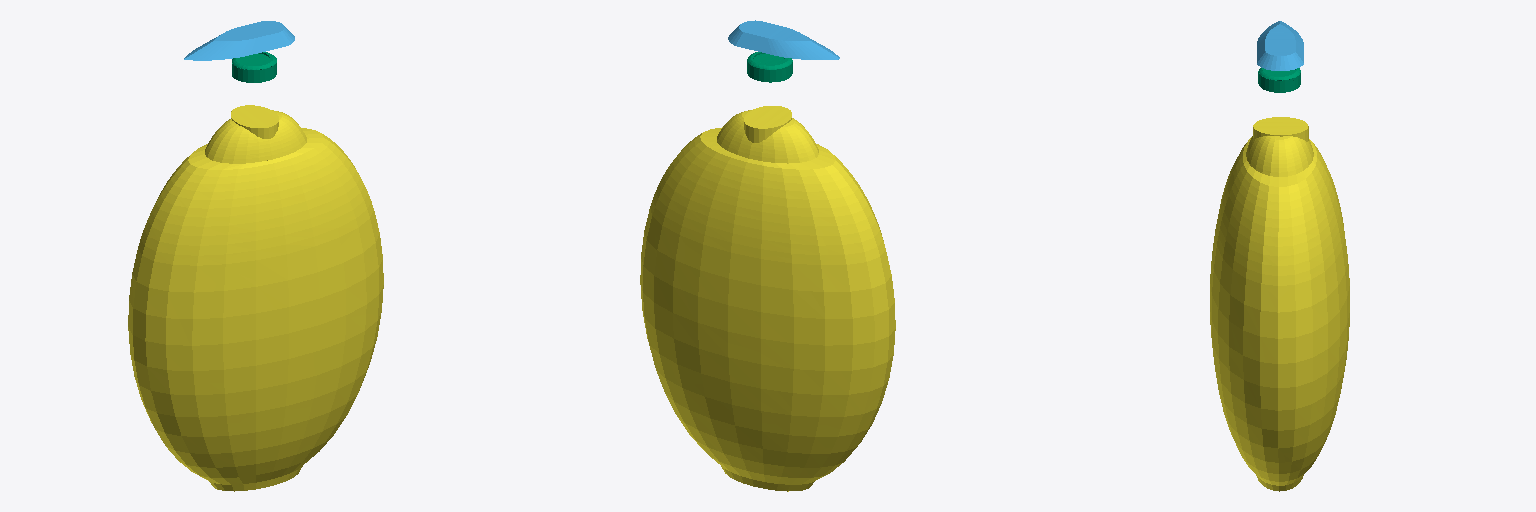
robot.urdf — partnet_eb03ba3f-2b3f-44c3-894d-2ff54920ba8b:
<?xml version="1.0" ?>
<robot name="partnet_eb03ba3f-2b3f-44c3-894d-2ff54920ba8b">
	<link name="base"/>
	<link name="link_0">
		<visual name="pressing_lid-1">
			<origin xyz="0.004231701631850748 0 -0.003250010010664317"/>
			<geometry>
				<mesh filename="textured_objs/original-4.obj"/>
			</geometry>
		</visual>
		<visual name="pressing_lid-1">
			<origin xyz="0.004231701631850748 0 -0.003250010010664317"/>
			<geometry>
				<mesh filename="textured_objs/original-3.obj"/>
			</geometry>
		</visual>
		<visual name="pressing_lid-1">
			<origin xyz="0.004231701631850748 0 -0.003250010010664317"/>
			<geometry>
				<mesh filename="textured_objs/original-1.obj"/>
			</geometry>
		</visual>
		<collision>
			<origin xyz="0.004231701631850748 0 -0.003250010010664317"/>
			<geometry>
				<mesh filename="textured_objs/original-4.obj"/>
			</geometry>
		</collision>
		<collision>
			<origin xyz="0.004231701631850748 0 -0.003250010010664317"/>
			<geometry>
				<mesh filename="textured_objs/original-3.obj"/>
			</geometry>
		</collision>
		<collision>
			<origin xyz="0.004231701631850748 0 -0.003250010010664317"/>
			<geometry>
				<mesh filename="textured_objs/original-1.obj"/>
			</geometry>
		</collision>
	</link>
	<joint name="joint_0" type="continuous">
		<origin xyz="0.0 0 0.0"/>
		<axis xyz="0 1 0"/>
		<child link="link_0"/>
		<parent link="link_0_helper"/>
	</joint>
	<link name="link_1">
		<visual name="head-3">
			<origin xyz="0.0012767166332510634 -1.2184313426589853e-05 0.003067265562766778"/>
			<geometry>
				<mesh filename="textured_objs/original-2.obj"/>
			</geometry>
		</visual>
		<visual name="head-3">
			<origin xyz="0.0012767166332510634 -1.2184313426589853e-05 0.003067265562766778"/>
			<geometry>
				<mesh filename="textured_objs/original-5.obj"/>
			</geometry>
		</visual>
		<visual name="head-3">
			<origin xyz="0.0012767166332510634 -1.2184313426589853e-05 0.003067265562766778"/>
			<geometry>
				<mesh filename="textured_objs/original-6.obj"/>
			</geometry>
		</visual>
		<collision>
			<origin xyz="0.0012767166332510634 -1.2184313426589853e-05 0.003067265562766778"/>
			<geometry>
				<mesh filename="textured_objs/original-2.obj"/>
			</geometry>
		</collision>
		<collision>
			<origin xyz="0.0012767166332510634 -1.2184313426589853e-05 0.003067265562766778"/>
			<geometry>
				<mesh filename="textured_objs/original-5.obj"/>
			</geometry>
		</collision>
		<collision>
			<origin xyz="0.0012767166332510634 -1.2184313426589853e-05 0.003067265562766778"/>
			<geometry>
				<mesh filename="textured_objs/original-6.obj"/>
			</geometry>
		</collision>
	</link>
	<joint name="joint_1" type="continuous">
		<origin xyz="0.0 0.0 0.0"/>
		<axis xyz="0.006125362796339866 0.9999802277683453 0.0014226745875050735"/>
		<child link="link_1"/>
		<parent link="link_1_helper"/>
	</joint>
	<link name="link_2">
		<visual name="base_body-4">
			<origin xyz="0 0 0"/>
			<geometry>
				<mesh filename="textured_objs/original-8.obj"/>
			</geometry>
		</visual>
		<visual name="base_body-4">
			<origin xyz="0 0 0"/>
			<geometry>
				<mesh filename="textured_objs/original-9.obj"/>
			</geometry>
		</visual>
		<visual name="base_body-4">
			<origin xyz="0 0 0"/>
			<geometry>
				<mesh filename="textured_objs/original-11.obj"/>
			</geometry>
		</visual>
		<visual name="base_body-4">
			<origin xyz="0 0 0"/>
			<geometry>
				<mesh filename="textured_objs/original-12.obj"/>
			</geometry>
		</visual>
		<visual name="base_body-4">
			<origin xyz="0 0 0"/>
			<geometry>
				<mesh filename="textured_objs/original-10.obj"/>
			</geometry>
		</visual>
		<collision>
			<origin xyz="0 0 0"/>
			<geometry>
				<mesh filename="textured_objs/original-8.obj"/>
			</geometry>
		</collision>
		<collision>
			<origin xyz="0 0 0"/>
			<geometry>
				<mesh filename="textured_objs/original-9.obj"/>
			</geometry>
		</collision>
		<collision>
			<origin xyz="0 0 0"/>
			<geometry>
				<mesh filename="textured_objs/original-11.obj"/>
			</geometry>
		</collision>
		<collision>
			<origin xyz="0 0 0"/>
			<geometry>
				<mesh filename="textured_objs/original-12.obj"/>
			</geometry>
		</collision>
		<collision>
			<origin xyz="0 0 0"/>
			<geometry>
				<mesh filename="textured_objs/original-10.obj"/>
			</geometry>
		</collision>
	</link>
	<joint name="joint_2" type="fixed">
		<origin rpy="1.570796326794897 0 -1.570796326794897" xyz="0 0 0"/>
		<child link="link_2"/>
		<parent link="base"/>
	</joint>
	<link name="link_0_helper"/>
	<joint name="joint_3" type="prismatic">
		<origin xyz="-0.0029549849985996846 -1.2184313426589853e-05 0.006317275573431095"/>
		<axis xyz="0 -1 0"/>
		<child link="link_0_helper"/>
		<parent link="link_1"/>
		<limit lower="0" upper="0.06"/>
	</joint>
	<link name="link_1_helper"/>
	<joint name="joint_4" type="prismatic">
		<origin xyz="-0.0012767166332510634 1.2184313426589853e-05 -0.003067265562766778"/>
		<axis xyz="0.006125362796339866 0.9999802277683453 0.0014226745875050735"/>
		<child link="link_1_helper"/>
		<parent link="link_2"/>
		<limit lower="0" upper="0.01200000000000001"/>
	</joint>
</robot>

--- Facts derived from the render (not from the file) ---
The picture shows the robot from 3 angles, left to right: view 1: azimuth 30°, elevation 25°; view 2: azimuth 150°, elevation 25°; view 3: azimuth 270°, elevation 25°; orthographic projection.
Model partnet_eb03ba3f-2b3f-44c3-894d-2ff54920ba8b with 6 links and 5 joints (2 continuous, 2 prismatic, 1 fixed), rooted at base, posed all joints at 0.
Visible links, largest first — view 1: link_2, link_0, link_1; view 2: link_2, link_0, link_1; view 3: link_2, link_0, link_1.
Link boxes in pixels (left/top/right/bottom): link_2: left=128, top=105, right=383, bottom=491; link_0: left=184, top=21, right=294, bottom=60; link_1: left=232, top=52, right=276, bottom=82; link_2: left=640, top=106, right=895, bottom=491; link_0: left=728, top=20, right=839, bottom=59; link_1: left=747, top=52, right=792, bottom=82; link_2: left=1210, top=117, right=1349, bottom=491; link_0: left=1257, top=21, right=1303, bottom=70; link_1: left=1258, top=68, right=1300, bottom=92.
Size in the robot's own frame: 1 by 0.5198 by 1.75 metres.
8 mesh visuals loaded from 11 distinct referenced files (8 OBJ); not drawn: 3 (reference not matched to a file when rendering).
